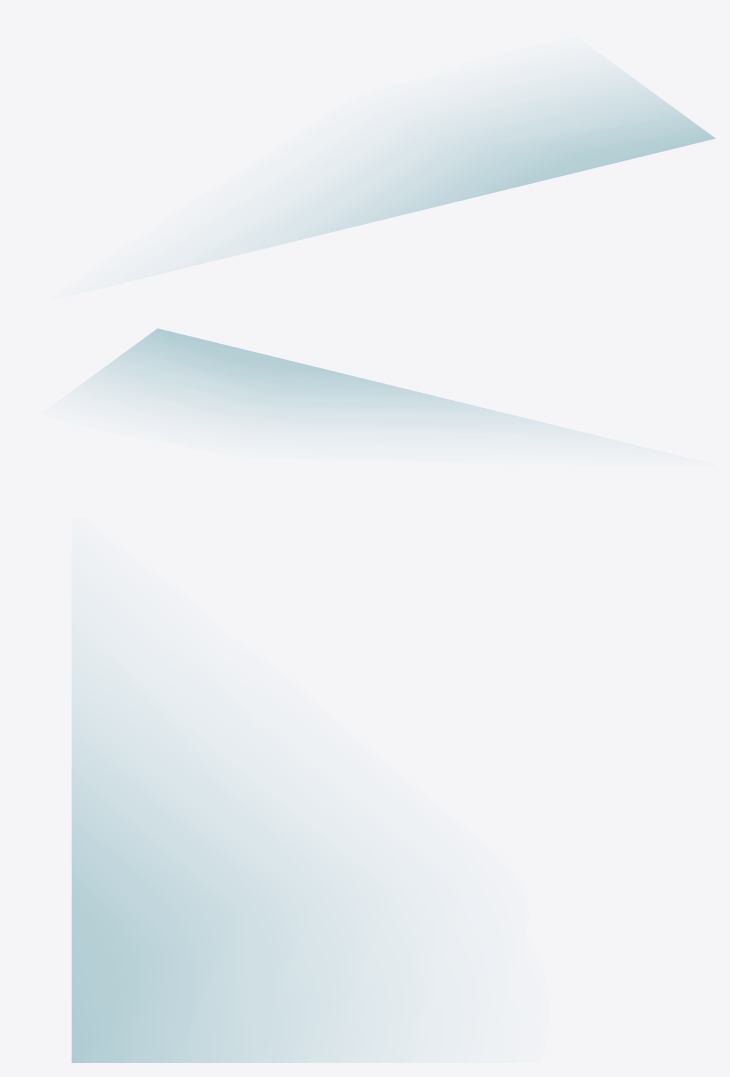
The picture shows the model from 3 angles, top to bottom: view 1: azimuth 30°, elevation 25°; view 2: azimuth 150°, elevation 25°; view 3: azimuth 270°, elevation 25°; orthographic projection. The views are drawn at different scales.
Visible parts, largest first — view 1: city; view 2: city; view 3: city.
Part boxes in pixels (left/top/right/bottom): city: left=209, top=70, right=715, bottom=261; city: left=80, top=328, right=582, bottom=432; city: left=71, top=644, right=398, bottom=1062.
Bounding box in the file's own units: 500 × 0.18 × 227.
